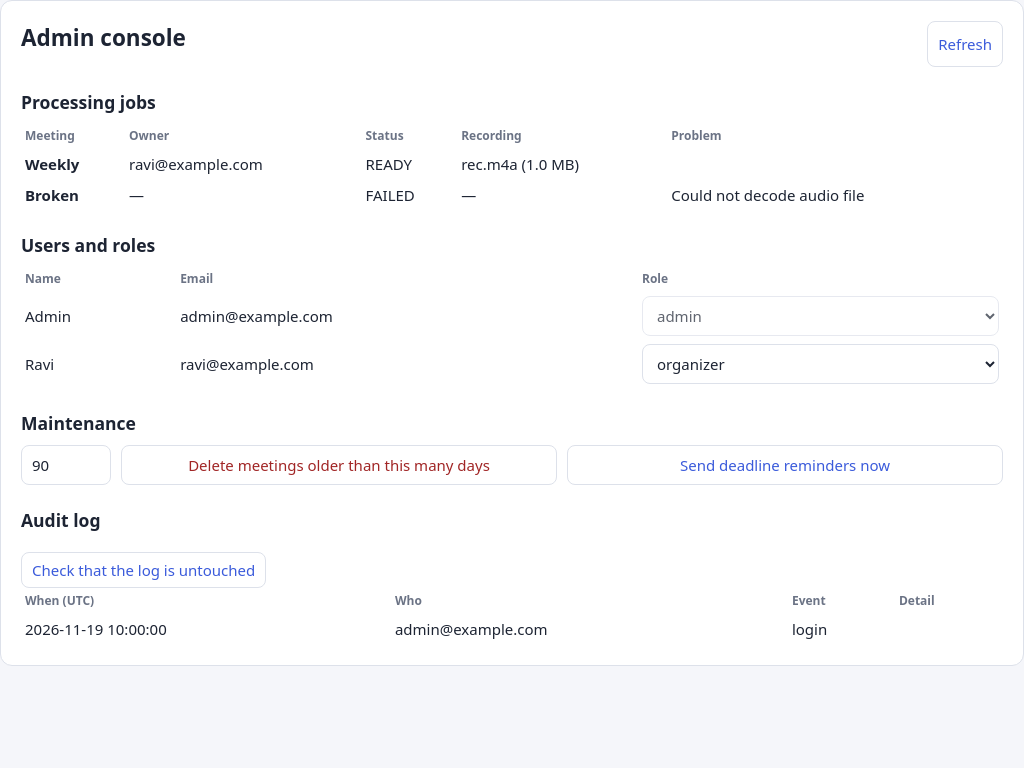
Test: AdminConsole › shows the mail problem when reminders cannot be sent
Click the button "Send deadline reminders now" at [785, 465], box [567, 445, 1003, 485]
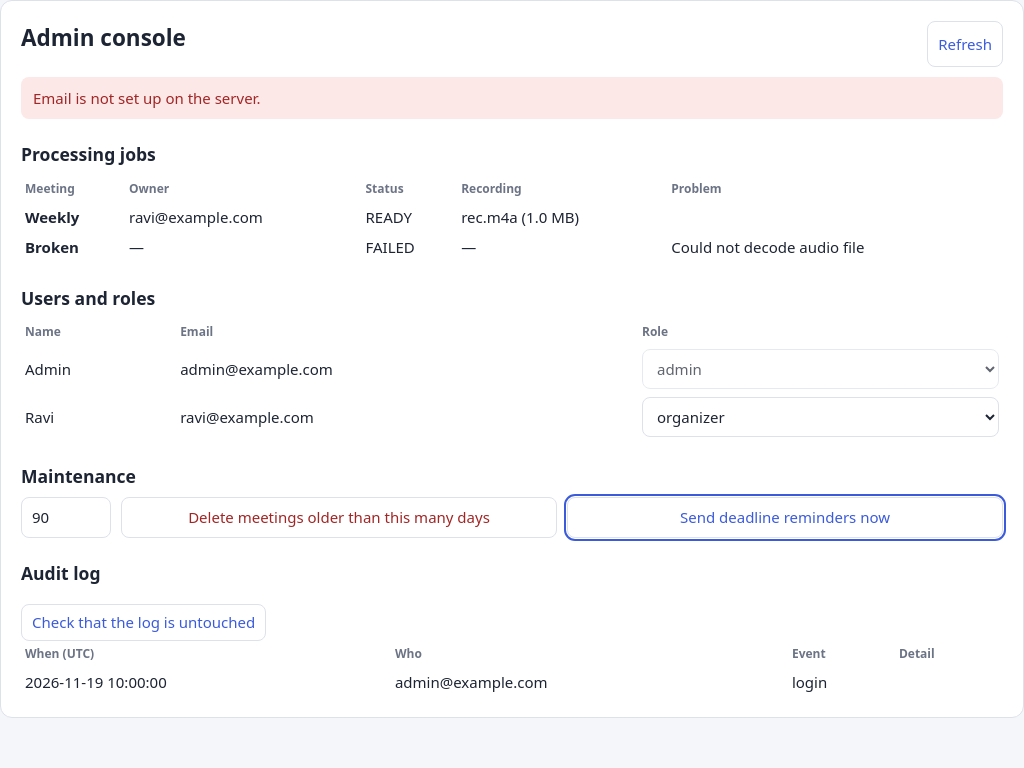
expect the message shows "not set up": met, box [33, 88, 260, 108]
